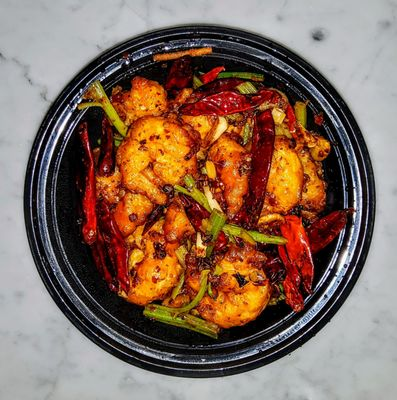sushi: (22, 21, 397, 373)
